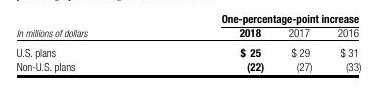table: (0, 0, 374, 97)
